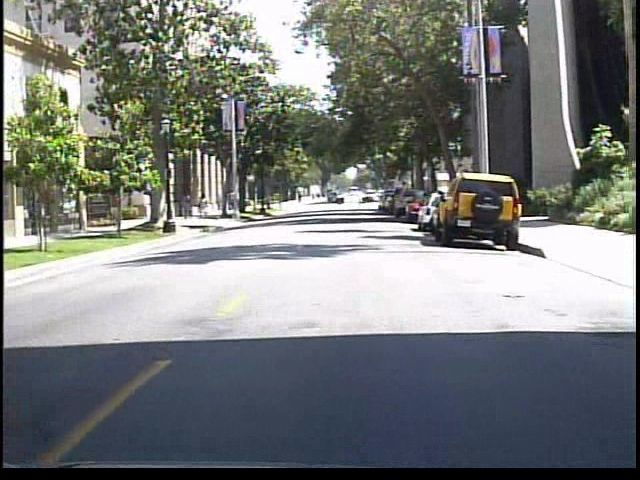person: (194, 191, 214, 223), (174, 187, 192, 221)
